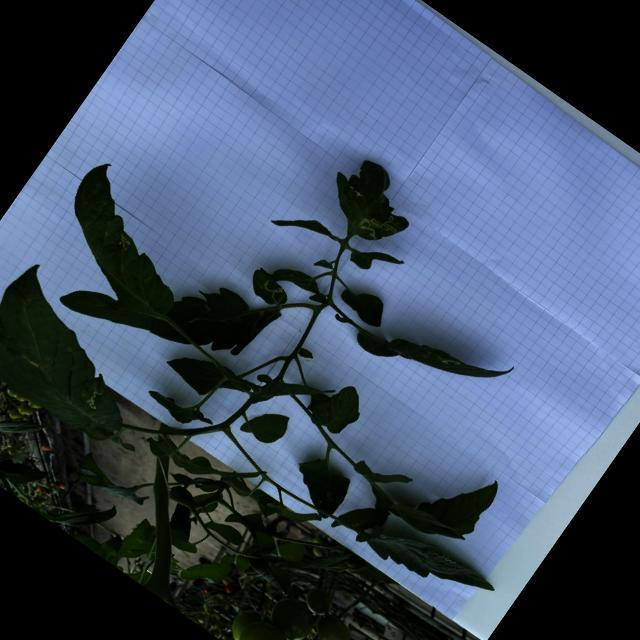Tomato healthy leaf: (358, 422, 504, 562), (247, 352, 336, 439), (162, 337, 254, 418), (304, 374, 372, 444), (352, 447, 412, 501), (334, 278, 393, 332), (264, 485, 322, 537), (238, 398, 292, 452), (0, 441, 49, 497)
Tomato target spot leaf: (14, 156, 218, 358), (0, 256, 171, 453), (350, 282, 516, 428), (148, 257, 283, 389), (352, 503, 498, 623), (314, 148, 428, 258), (278, 448, 356, 522), (142, 378, 215, 439), (241, 265, 294, 314)
